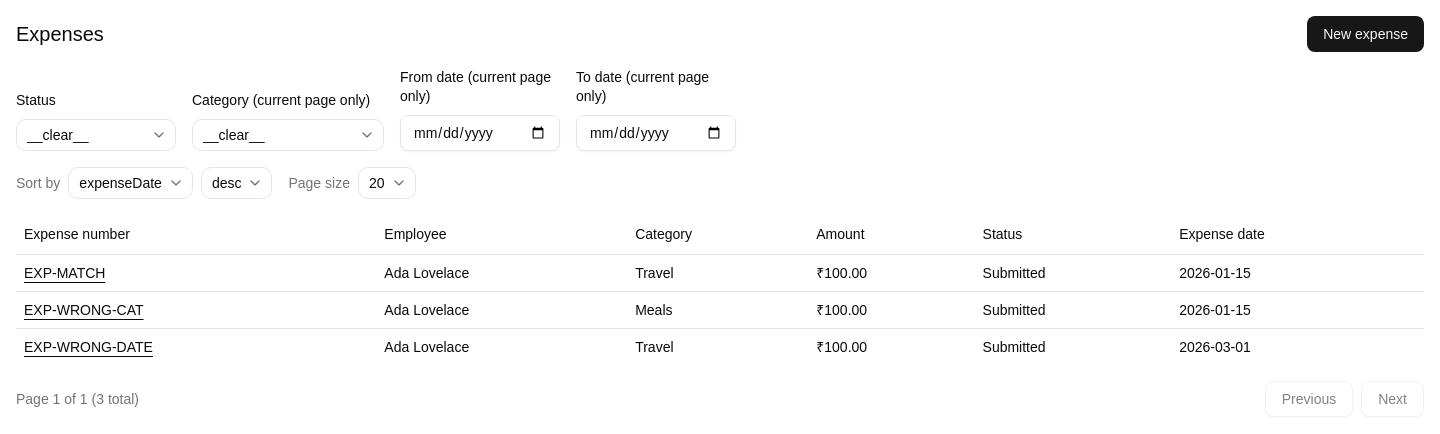
Scenario: ExpenseListPage › narrows within the current page when category and date filters are combined
The image size is (1440, 434).
Check: the link "EXP-MATCH" is shown, box [24,265,105,281]
Click the dropdown named "Category (current page only)": point(288, 134) [192,118,384,150]
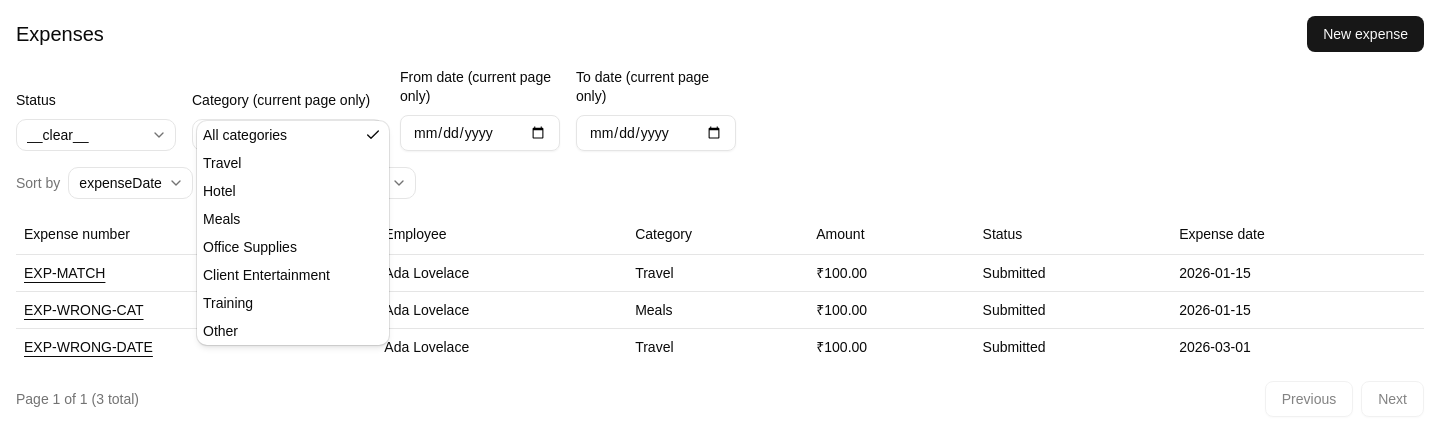
Click the option "Travel": point(222, 162) [203,154,241,170]
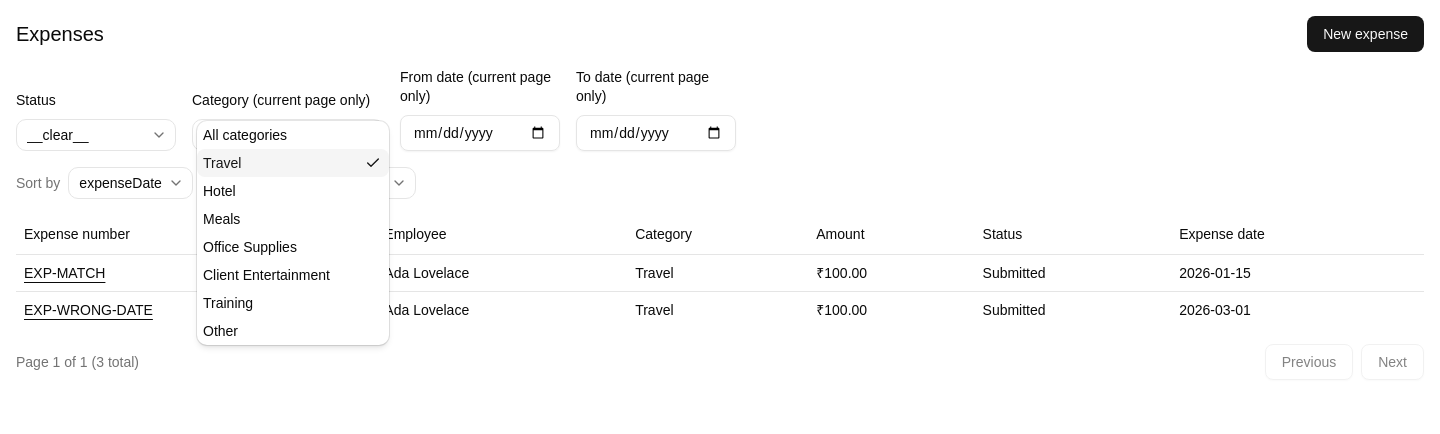
In the date field labelled "From date (current page only)": point(480, 132) [400,114,560,150], type "2026-01-01"
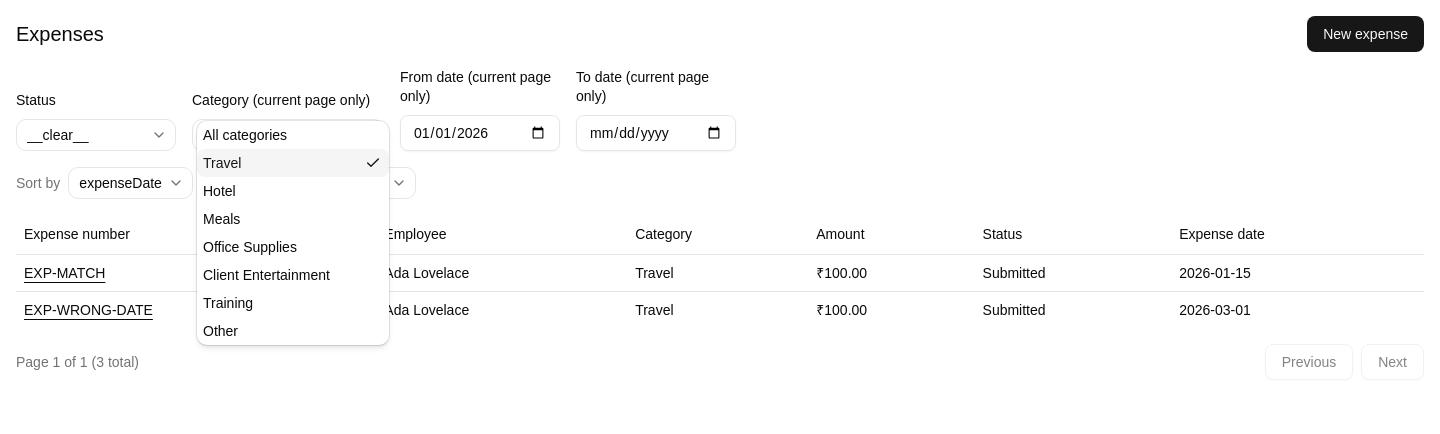
In the date field labelled "To date (current page only)": point(656, 132) [576,114,736,150], type "2026-01-31"
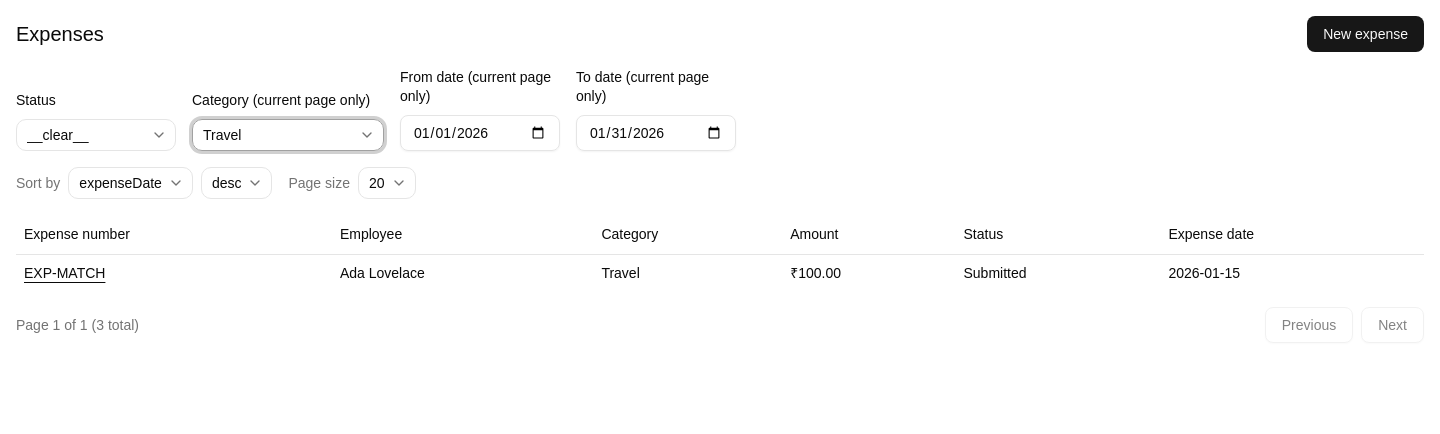
Check: the link "EXP-MATCH" is shown, box [24,265,105,281]
Check: the link "EXP-WRONG-DATE" is gone
